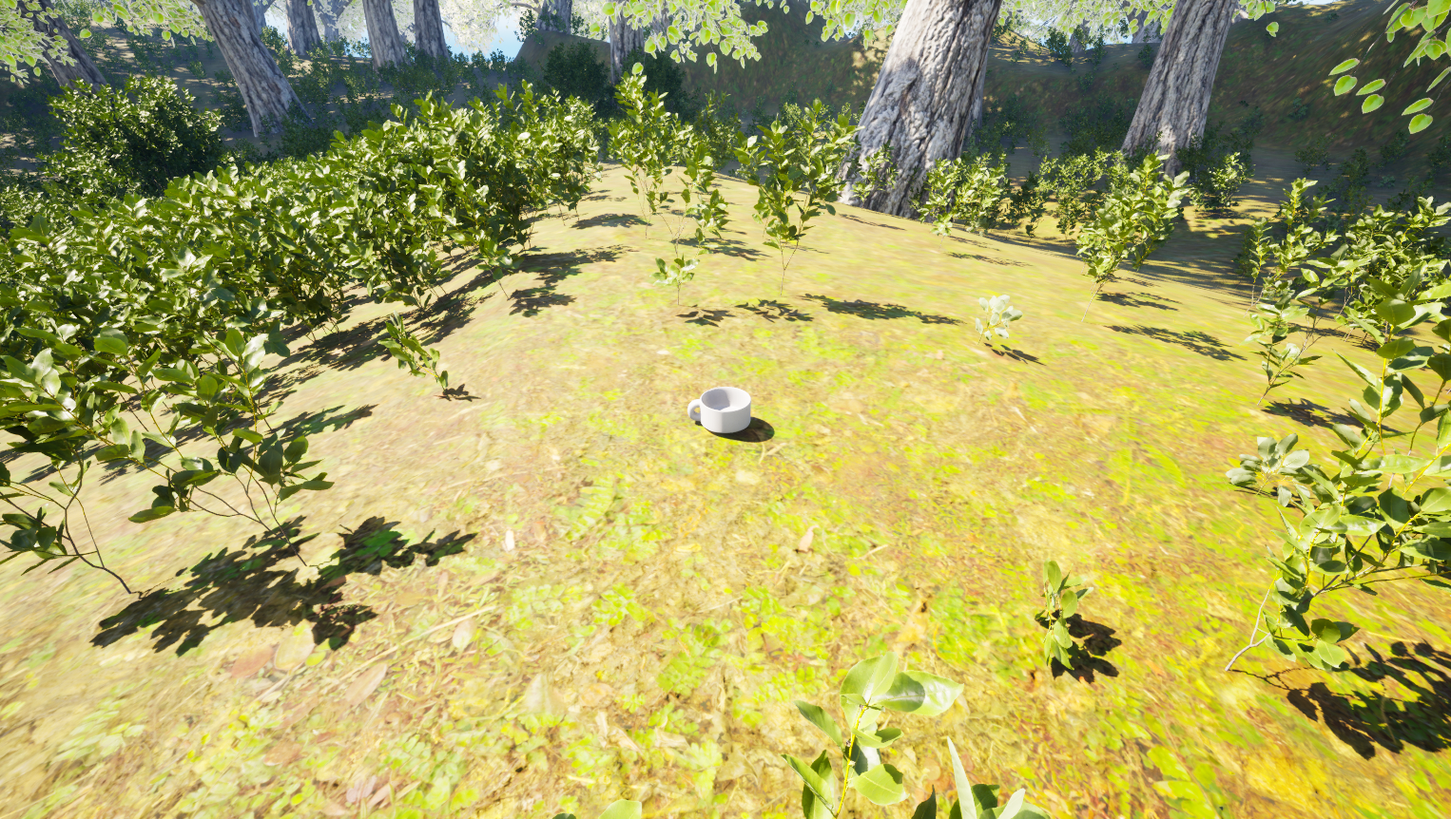Teacup: (684, 381, 760, 439)
